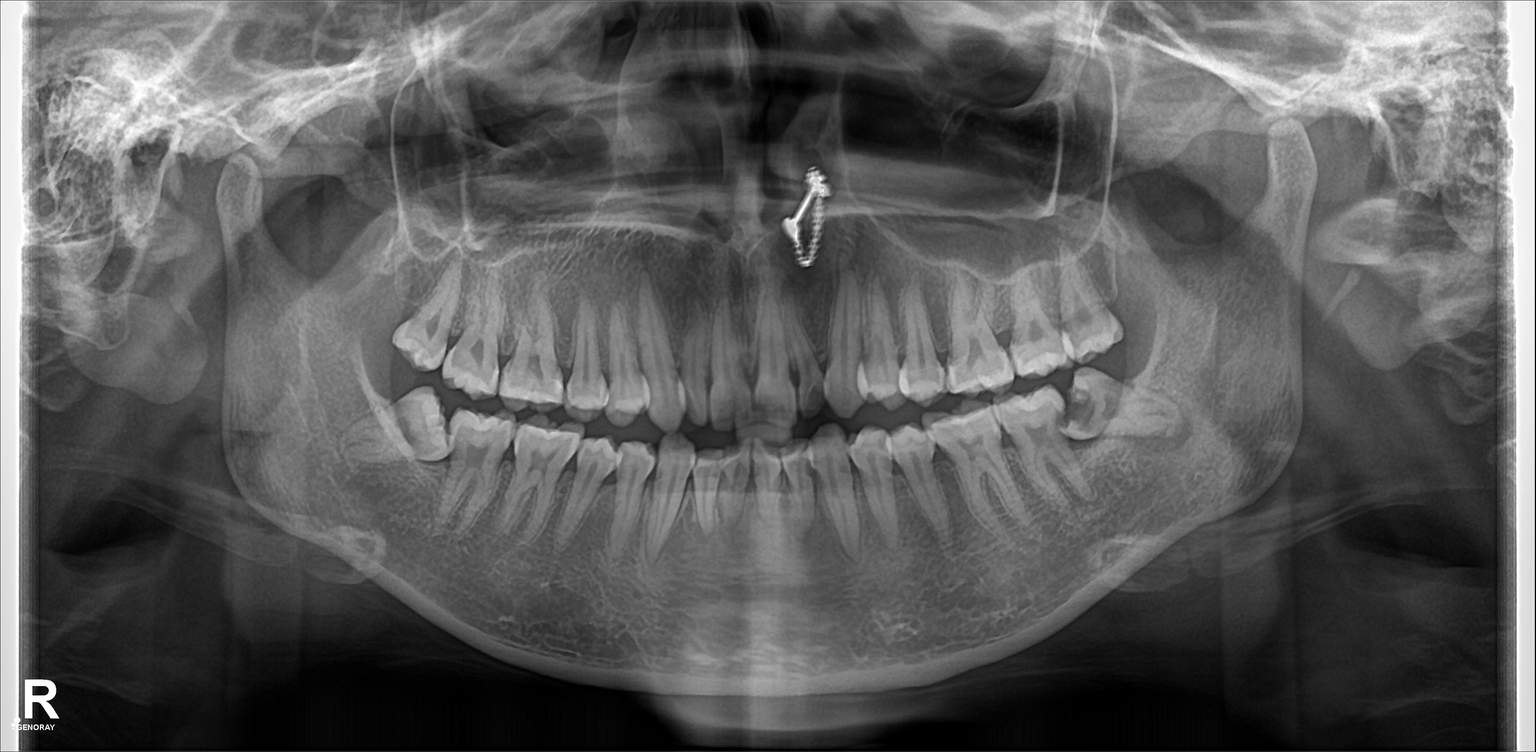Dental Caries: (1065, 393, 1095, 426)
Impacted Third Molar: (333, 382, 457, 465), (1067, 372, 1183, 450)
Missing Tooth: (1112, 229, 1147, 347)
